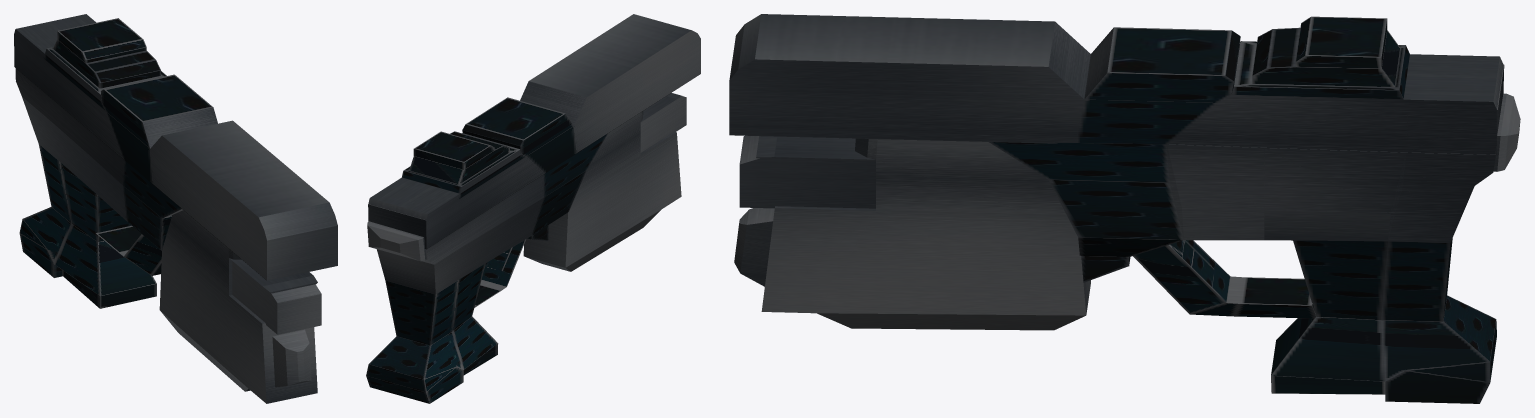
File: laser.fbx
3 views of the same model, side by side, from view 1: azimuth 30°, elevation 25°; view 2: azimuth 150°, elevation 25°; view 3: azimuth 270°, elevation 25° (orthographic). The views are drawn at different scales.
Parts seen in each view (by area): view 1: Laser; view 2: Laser; view 3: Laser.
Part boxes in pixels (box(x1,y1,x2,y2)): Laser: box(14, 14, 337, 403); Laser: box(366, 14, 700, 403); Laser: box(729, 14, 1520, 403).
Bounding box in the file's own units: 49.42 × 114 × 242.
